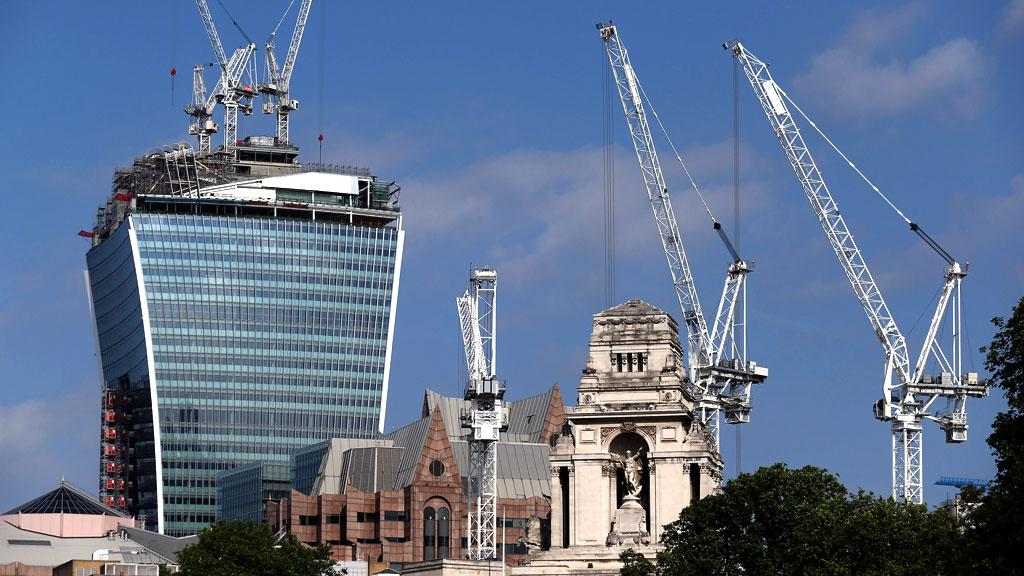Walkie talkie: (67, 181, 414, 493)
